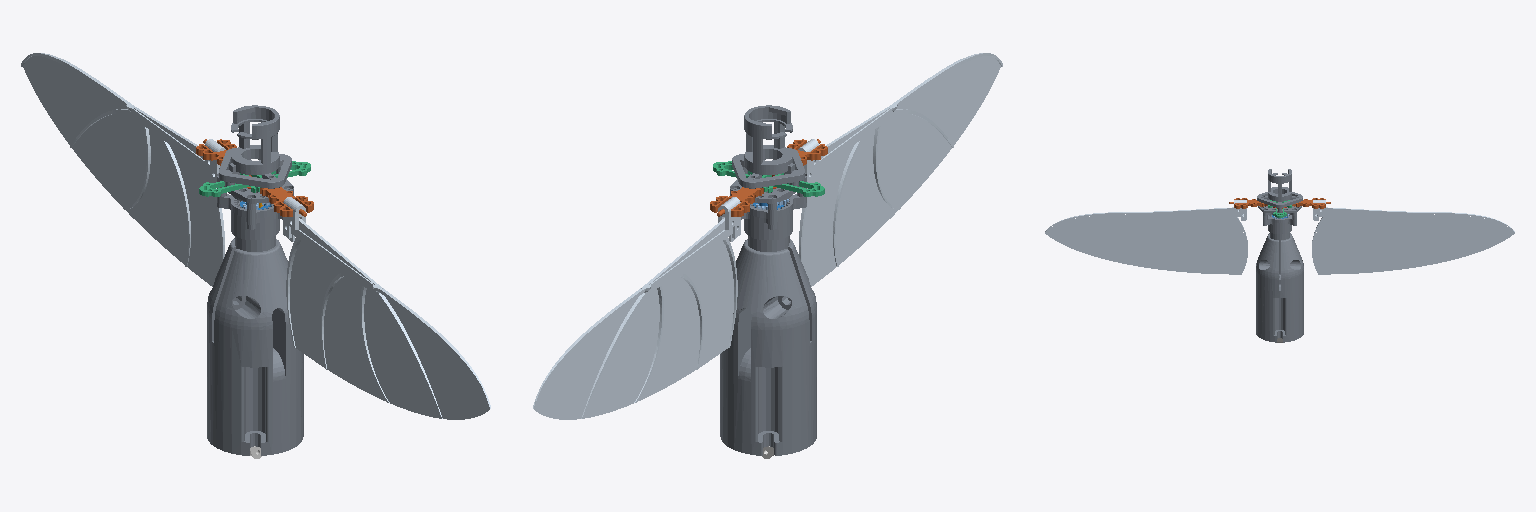
The robot description file, URDF, robot "IST_robot-V2":
<?xml version='1.0' encoding='utf-8'?>
<robot name="IST_robot-V2">
  <!-- Generated by ../build_model.py. Use IST_robot-V2.xml for MuJoCo physics: URDF cannot express the nonlinear Scotch-yoke closure. The original base is thrust_unit, mounted above a new pitch/roll support. Feathering remains passive. Fixed base and U-shaped connector meshes come from SingleThrustFlapper; mount mass/inertia adjusted for 15 g total. IST attachment is provisional. -->
  <link name="thrust_unit">
    <inertial>
      <origin xyz="1.26761268613762E-05 -2.20973017296773E-08 -0.0237424608367809" rpy="0 0 0" />
      <mass value="0.0109129405676043" />
      <inertia ixx="1.38805289177657E-06" ixy="1.77724958502214E-11" ixz="7.64109214566619E-10" iyy="1.39517042830575E-06" iyz="-6.40435229464194E-11" izz="4.56358479374671E-07" />
    </inertial>
    <visual>
      <origin xyz="0 0 0" rpy="0 0 0" />
      <geometry>
        <mesh filename="../../IST_robot/meshes/base_link.stl" />
      </geometry>
      <material name="base_link_material">
        <color rgba=".55 .58 .62 1" />
      </material>
    </visual>
    <collision>
      <origin xyz="0 0 0" rpy="0 0 0" />
      <geometry>
        <mesh filename="../../IST_robot/meshes/base_link.stl" />
      </geometry>
    </collision>
  </link>
  <link name="motor_sun">
    <inertial>
      <origin xyz="3.32832973596192e-11 -1.8625597785044e-11 -0.00118097219061684" rpy="0 0 0" />
      <mass value="9.24465720612881e-06" />
      <inertia ixx="7.20829775690553e-12" ixy="-6.07288991302019e-20" ixz="1.46223535684454e-19" iyy="7.20829801532346e-12" iyz="6.03434160158238e-20" izz="9.97439347469208e-12" />
    </inertial>
    <visual>
      <origin xyz="0 0 0" rpy="0 0 0" />
      <geometry>
        <mesh filename="../../IST_robot/meshes/motor_sun.stl" />
      </geometry>
      <material name="motor_sun_material">
        <color rgba=".95 .65 .12 1" />
      </material>
    </visual>
    <collision>
      <origin xyz="0 0 0" rpy="0 0 0" />
      <geometry>
        <mesh filename="../../IST_robot/meshes/motor_sun.stl" />
      </geometry>
    </collision>
  </link>
  <link name="carrier_1">
    <inertial>
      <origin xyz="-1.73310121737e-10 -3.24918557588e-10 -0.00215355804873" rpy="0 0 0" />
      <mass value="6.20212756891e-05" />
      <inertia ixx="2.949469618459e-10" ixy="3.506696363482e-18" ixz="-6.260708655656e-18" iyy="2.949469662022e-10" iyz="-1.582547427162e-17" izz="3.126416935213e-10" />
    </inertial>
    <visual>
      <origin xyz="0 0 0" rpy="0 0 0" />
      <geometry>
        <mesh filename="../../IST_robot/meshes/carrier_1.stl" />
      </geometry>
      <material name="carrier_1_material">
        <color rgba=".25 .55 .8 1" />
      </material>
    </visual>
    <collision>
      <origin xyz="0 0 0" rpy="0 0 0" />
      <geometry>
        <mesh filename="../../IST_robot/meshes/carrier_1.stl" />
      </geometry>
    </collision>
  </link>
  <link name="planet_1_1">
    <inertial>
      <origin xyz="5.67578651505e-12 2.26856838893e-11 0.000499999991572" rpy="0 0 0" />
      <mass value="5.737680733473e-06" />
      <inertia ixx="3.71652274435e-12" ixy="-9.779239622893e-20" ixz="1.610314610294e-20" iyy="3.71652263983e-12" iyz="4.562423784243e-20" izz="6.476767060959e-12" />
    </inertial>
    <visual>
      <origin xyz="0 0 0" rpy="0 0 0" />
      <geometry>
        <mesh filename="../../IST_robot/meshes/planet_1_1.stl" />
      </geometry>
      <material name="planet_1_1_material">
        <color rgba=".65 .8 .95 1" />
      </material>
    </visual>
    <collision>
      <origin xyz="0 0 0" rpy="0 0 0" />
      <geometry>
        <mesh filename="../../IST_robot/meshes/planet_1_1.stl" />
      </geometry>
    </collision>
  </link>
  <link name="planet_1_2">
    <inertial>
      <origin xyz="5.67578651505e-12 2.26856839435e-11 0.000499999991572" rpy="0 0 0" />
      <mass value="5.737680733473e-06" />
      <inertia ixx="3.71652274435e-12" ixy="-9.779239622893e-20" ixz="1.610314610294e-20" iyy="3.71652263983e-12" iyz="4.562423784243e-20" izz="6.476767060959e-12" />
    </inertial>
    <visual>
      <origin xyz="0 0 0" rpy="0 0 0" />
      <geometry>
        <mesh filename="../../IST_robot/meshes/planet_1_2.stl" />
      </geometry>
      <material name="planet_1_2_material">
        <color rgba=".65 .8 .95 1" />
      </material>
    </visual>
    <collision>
      <origin xyz="0 0 0" rpy="0 0 0" />
      <geometry>
        <mesh filename="../../IST_robot/meshes/planet_1_2.stl" />
      </geometry>
    </collision>
  </link>
  <link name="planet_1_3">
    <inertial>
      <origin xyz="5.67578651505e-12 2.26856838893e-11 0.000499999991572" rpy="0 0 0" />
      <mass value="5.737680733473e-06" />
      <inertia ixx="3.71652274435e-12" ixy="-9.779239622893e-20" ixz="1.610314610294e-20" iyy="3.71652263983e-12" iyz="4.562423784243e-20" izz="6.476767060959e-12" />
    </inertial>
    <visual>
      <origin xyz="0 0 0" rpy="0 0 0" />
      <geometry>
        <mesh filename="../../IST_robot/meshes/planet_1_3.stl" />
      </geometry>
      <material name="planet_1_3_material">
        <color rgba=".65 .8 .95 1" />
      </material>
    </visual>
    <collision>
      <origin xyz="0 0 0" rpy="0 0 0" />
      <geometry>
        <mesh filename="../../IST_robot/meshes/planet_1_3.stl" />
      </geometry>
    </collision>
  </link>
  <link name="carrier_2">
    <inertial>
      <origin xyz="-3.17866043324e-05 -0.000182285856424 -0.00467809526695" rpy="0 0 0" />
      <mass value="5.391299719195e-05" />
      <inertia ixx="2.781872030769e-10" ixy="-3.875580938268e-12" ixz="-6.423102939877e-13" iyy="2.566378198202e-10" iyz="-3.683441012056e-12" izz="4.121221917891e-10" />
    </inertial>
    <visual>
      <origin xyz="0 0 0" rpy="0 0 0" />
      <geometry>
        <mesh filename="../../IST_robot/meshes/carrier_2.stl" />
      </geometry>
      <material name="carrier_2_material">
        <color rgba=".8 .35 .2 1" />
      </material>
    </visual>
    <collision>
      <origin xyz="0 0 0" rpy="0 0 0" />
      <geometry>
        <mesh filename="../../IST_robot/meshes/carrier_2.stl" />
      </geometry>
    </collision>
  </link>
  <link name="planet_2_1">
    <inertial>
      <origin xyz="5.67578646084e-12 2.26856838893e-11 0.000499999991572" rpy="0 0 0" />
      <mass value="5.737680733473e-06" />
      <inertia ixx="3.71652274435e-12" ixy="-9.779239622893e-20" ixz="1.610314610294e-20" iyy="3.71652263983e-12" iyz="4.562423784243e-20" izz="6.476767060959e-12" />
    </inertial>
    <visual>
      <origin xyz="0 0 0" rpy="0 0 0" />
      <geometry>
        <mesh filename="../../IST_robot/meshes/planet_2_1.stl" />
      </geometry>
      <material name="planet_2_1_material">
        <color rgba=".65 .8 .95 1" />
      </material>
    </visual>
    <collision>
      <origin xyz="0 0 0" rpy="0 0 0" />
      <geometry>
        <mesh filename="../../IST_robot/meshes/planet_2_1.stl" />
      </geometry>
    </collision>
  </link>
  <link name="planet_2_2">
    <inertial>
      <origin xyz="-6.8031245921e-12 2.23734731527e-11 0.000499999991572" rpy="0 0 0" />
      <mass value="5.737680733473e-06" />
      <inertia ixx="3.716522802967e-12" ixy="7.738299952786e-23" ixz="-9.661717019851e-21" iyy="3.716522581213e-12" iyz="4.740815972126e-20" izz="6.476767060959e-12" />
    </inertial>
    <visual>
      <origin xyz="0 0 0" rpy="0 0 0" />
      <geometry>
        <mesh filename="../../IST_robot/meshes/planet_2_2.stl" />
      </geometry>
      <material name="planet_2_2_material">
        <color rgba=".65 .8 .95 1" />
      </material>
    </visual>
    <collision>
      <origin xyz="0 0 0" rpy="0 0 0" />
      <geometry>
        <mesh filename="../../IST_robot/meshes/planet_2_2.stl" />
      </geometry>
    </collision>
  </link>
  <link name="planet_2_3">
    <inertial>
      <origin xyz="5.67578694873e-12 2.26856836725e-11 0.000499999991572" rpy="0 0 0" />
      <mass value="5.737680733473e-06" />
      <inertia ixx="3.71652274435e-12" ixy="-9.779239622893e-20" ixz="1.610314610294e-20" iyy="3.71652263983e-12" iyz="4.562423784243e-20" izz="6.476767060959e-12" />
    </inertial>
    <visual>
      <origin xyz="0 0 0" rpy="0 0 0" />
      <geometry>
        <mesh filename="../../IST_robot/meshes/planet_2_3.stl" />
      </geometry>
      <material name="planet_2_3_material">
        <color rgba=".65 .8 .95 1" />
      </material>
    </visual>
    <collision>
      <origin xyz="0 0 0" rpy="0 0 0" />
      <geometry>
        <mesh filename="../../IST_robot/meshes/planet_2_3.stl" />
      </geometry>
    </collision>
  </link>
  <link name="slider">
    <inertial>
      <origin xyz="-0.000471238301986213 -0.00724999999999904 0.000500000000000007" rpy="0 0 0" />
      <mass value="9.13433299099911e-05" />
      <inertia ixx="5.27794068806615e-10" ixy="-3.80698997352266e-23" ixz="1.32114430487267e-25" iyy="4.19977143860114e-09" iyz="5.59698022342879e-27" izz="4.71234161908943e-09" />
    </inertial>
    <visual>
      <origin xyz="0 0 0" rpy="0 0 0" />
      <geometry>
        <mesh filename="../../IST_robot/meshes/slider.stl" />
      </geometry>
      <material name="slider_material">
        <color rgba=".3 .75 .55 1" />
      </material>
    </visual>
    <collision>
      <origin xyz="0 0 0" rpy="0 0 0" />
      <geometry>
        <mesh filename="../../IST_robot/meshes/slider.stl" />
      </geometry>
    </collision>
  </link>
  <link name="left_flapping">
    <inertial>
      <origin xyz="0.00548903429774845 -6.56871542558514e-11 -0.000675091274318626" rpy="0 0 0" />
      <mass value="7.69478363348058e-05" />
      <inertia ixx="2.42874984735233e-10" ixy="1.33480878154164e-21" ixz="4.89509341337448e-12" iyy="1.07694212715597e-09" iyz="1.82482987991067e-23" izz="1.29980109009275e-09" />
    </inertial>
    <visual>
      <origin xyz="0 0 0" rpy="0 0 0" />
      <geometry>
        <mesh filename="../../IST_robot/meshes/left_flapping.stl" />
      </geometry>
      <material name="left_flapping_material">
        <color rgba=".8 .45 .25 1" />
      </material>
    </visual>
    <collision>
      <origin xyz="0 0 0" rpy="0 0 0" />
      <geometry>
        <mesh filename="../../IST_robot/meshes/left_flapping.stl" />
      </geometry>
    </collision>
  </link>
  <link name="left_wing">
    <inertial>
      <origin xyz="1.72174182157468e-05 0.0202267079520993 0.00631483804910844" rpy="0 0 0" />
      <mass value="0.000333849502130418" />
      <inertia ixx="5.47629869105606e-08" ixy="1.64685676479021e-10" ixz="1.33328181846956e-10" iyy="6.63071803489766e-09" iyz="-4.49940546418837e-09" izz="4.8269233447209e-08" />
    </inertial>
    <visual>
      <origin xyz="0 0 0" rpy="0 0 0" />
      <geometry>
        <mesh filename="../../IST_robot/meshes/left_wing.stl" />
      </geometry>
      <material name="left_wing_material">
        <color rgba=".85 .9 .95 1" />
      </material>
    </visual>
    <collision>
      <origin xyz="0 0 0" rpy="0 0 0" />
      <geometry>
        <mesh filename="../../IST_robot/meshes/left_wing.stl" />
      </geometry>
    </collision>
  </link>
  <link name="right_flapping">
    <inertial>
      <origin xyz="0.00548903429774801 6.56934543304989e-11 -0.000675091274318626" rpy="0 0 0" />
      <mass value="7.69478363348058e-05" />
      <inertia ixx="2.42874984735233e-10" ixy="1.33413383513526e-21" ixz="4.89509341337441e-12" iyy="1.07694212715597e-09" iyz="1.82560258559346e-23" izz="1.29980109009275e-09" />
    </inertial>
    <visual>
      <origin xyz="0 0 0" rpy="0 0 0" />
      <geometry>
        <mesh filename="../../IST_robot/meshes/right_flapping.stl" />
      </geometry>
      <material name="right_flapping_material">
        <color rgba=".8 .45 .25 1" />
      </material>
    </visual>
    <collision>
      <origin xyz="0 0 0" rpy="0 0 0" />
      <geometry>
        <mesh filename="../../IST_robot/meshes/right_flapping.stl" />
      </geometry>
    </collision>
  </link>
  <link name="right_wing">
    <inertial>
      <origin xyz="-1.71820374846992e-05 0.0202054858245543 0.00631658519247802" rpy="0 0 0" />
      <mass value="0.00033369228976673" />
      <inertia ixx="5.47064232192769e-08" ixy="-1.65019627131557e-10" ixz="-1.33426248126724e-10" iyy="6.63643111989782e-09" iyz="-4.50084711239028e-09" izz="4.82069415651429e-08" />
    </inertial>
    <visual>
      <origin xyz="0 0 0" rpy="0 0 0" />
      <geometry>
        <mesh filename="../../IST_robot/meshes/right_wing.stl" />
      </geometry>
      <material name="right_wing_material">
        <color rgba=".85 .9 .95 1" />
      </material>
    </visual>
    <collision>
      <origin xyz="0 0 0" rpy="0 0 0" />
      <geometry>
        <mesh filename="../../IST_robot/meshes/right_wing.stl" />
      </geometry>
    </collision>
  </link>
  <joint name="motor_joint" type="continuous">
    <origin xyz="0 -3.1473754338e-18 -0.0514022391601" rpy="0 0 -2.96895077434" />
    <parent link="thrust_unit" />
    <child link="motor_sun" />
    <axis xyz="0 0 1" />
    <limit effort="0.002" velocity="20000" />
    <dynamics damping="1e-10" friction="0" />
  </joint>
  <joint name="carrier_1_joint" type="continuous">
    <origin xyz="0 -3.1473754338e-18 -0.0514022391601" rpy="0 0 -2.96895077434" />
    <parent link="thrust_unit" />
    <child link="carrier_1" />
    <axis xyz="0 0 1" />
    <limit effort="0.002" velocity="20000" />
    <mimic joint="motor_joint" multiplier="0.25" offset="0" />
  </joint>
  <joint name="planet_1_1_joint" type="continuous">
    <origin xyz="0.000936278737523 0.00253246562184 -0.002" rpy="0 0 9.53601373288e-18" />
    <parent link="carrier_1" />
    <child link="planet_1_1" />
    <axis xyz="0 0 1" />
    <limit effort="0.002" velocity="20000" />
    <mimic joint="motor_joint" multiplier="-0.75" offset="0" />
  </joint>
  <joint name="planet_1_2_joint" type="continuous">
    <origin xyz="-0.00266131893086 -0.000455391639881 -0.002" rpy="0 0 9.53601373288e-18" />
    <parent link="carrier_1" />
    <child link="planet_1_2" />
    <axis xyz="0 0 1" />
    <limit effort="0.002" velocity="20000" />
    <mimic joint="motor_joint" multiplier="-0.75" offset="0" />
  </joint>
  <joint name="planet_1_3_joint" type="continuous">
    <origin xyz="0.00172504019486 -0.00207707398244 -0.002" rpy="0 0 9.53601373288e-18" />
    <parent link="carrier_1" />
    <child link="planet_1_3" />
    <axis xyz="0 0 1" />
    <limit effort="0.002" velocity="20000" />
    <mimic joint="motor_joint" multiplier="-0.75" offset="0" />
  </joint>
  <joint name="carrier_2_joint" type="continuous">
    <origin xyz="0 -3.1473754338e-18 -0.0514022391601" rpy="0 0 -2.96895077434" />
    <parent link="thrust_unit" />
    <child link="carrier_2" />
    <axis xyz="0 0 1" />
    <limit effort="0.002" velocity="20000" />
    <mimic joint="motor_joint" multiplier="0.0625" offset="0" />
  </joint>
  <joint name="planet_2_1_joint" type="continuous">
    <origin xyz="0.000463820989763 0.00265986279516 -0.005" rpy="0 0 9.53601373288e-18" />
    <parent link="carrier_2" />
    <child link="planet_2_1" />
    <axis xyz="0 0 1" />
    <limit effort="0.002" velocity="20000" />
    <mimic joint="motor_joint" multiplier="-0.1875" offset="0" />
  </joint>
  <joint name="planet_2_2_joint" type="continuous">
    <origin xyz="-0.00253541924544 -0.000928250638032 -0.005" rpy="0 0 9.53601373288e-18" />
    <parent link="carrier_2" />
    <child link="planet_2_2" />
    <axis xyz="0 0 1" />
    <limit effort="0.002" velocity="20000" />
    <mimic joint="motor_joint" multiplier="-0.1875" offset="0" />
  </joint>
  <joint name="planet_2_3_joint" type="continuous">
    <origin xyz="0.00207159825721 -0.00173161215732 -0.005" rpy="0 0 9.53601373288e-18" />
    <parent link="carrier_2" />
    <child link="planet_2_3" />
    <axis xyz="0 0 1" />
    <limit effort="0.002" velocity="20000" />
    <mimic joint="motor_joint" multiplier="-0.1875" offset="0" />
  </joint>
  <joint name="slider_joint" type="prismatic">
    <origin xyz="0.000471238301987 0.00724999990958 -0.0584022391601" rpy="-6.12303176911e-17 0 0" />
    <parent link="thrust_unit" />
    <child link="slider" />
    <axis xyz="1 0 0" />
    <limit effort="1" velocity="2" lower="-0.0027" upper="0.0027" />
    <dynamics damping="1e-05" friction="0" />
  </joint>
  <joint name="left_flapping_joint" type="revolute">
    <origin xyz="0 -0.00660000009075 -0.0588022391601" rpy="3.14159265359 0 -1.57079632679" />
    <parent link="thrust_unit" />
    <child link="left_flapping" />
    <axis xyz="0 0 -1" />
    <limit effort="0.002" velocity="20000" lower="-1.38461538462" upper="1.38461538462" />
    <dynamics damping="1e-09" friction="0" />
    <mimic joint="slider_joint" multiplier="-512.820512821" offset="0" />
  </joint>
  <joint name="left_feathering_joint" type="revolute">
    <origin xyz="0.00699999999933 6.07153216534e-19 -0.00065" rpy="3.14159265359 0 1.57079632679" />
    <parent link="left_flapping" />
    <child link="left_wing" />
    <axis xyz="0 1 0" />
    <limit effort="0.002" velocity="20000" lower="-0.455530934771" upper="0.455530934771" />
    <dynamics damping="1e-08" friction="0" />
  </joint>
  <joint name="right_flapping_joint" type="revolute">
    <origin xyz="0 0.00659999990992 -0.0588022391601" rpy="3.14159265359 0 1.57079632679" />
    <parent link="thrust_unit" />
    <child link="right_flapping" />
    <axis xyz="0 0 -1" />
    <limit effort="0.002" velocity="20000" lower="-1.38461538462" upper="1.38461538462" />
    <dynamics damping="1e-09" friction="0" />
    <mimic joint="slider_joint" multiplier="512.820512821" offset="0" />
  </joint>
  <joint name="right_feathering_joint" type="revolute">
    <origin xyz="0.00699999999933 -6.07153216534e-19 -0.00065" rpy="3.14159265359 0 1.57079632679" />
    <parent link="right_flapping" />
    <child link="right_wing" />
    <axis xyz="0 1 0" />
    <limit effort="0.002" velocity="20000" lower="-0.455530934771" upper="0.455530934771" />
    <dynamics damping="1e-08" friction="0" />
  </joint>
  <link name="base_link">
    <inertial>
      <origin xyz="-0.0003339328522 -2.65343302885e-14 -0.0259918701186" rpy="0 0 1.5707963267948966" />
      <mass value="0.0020146726234309313" />
      <inertia ixx="5.091690914223252e-08" ixy="-2.0972430238300887e-18" ixz="2.8762976844529624e-20" iyy="1.3396232496597705e-07" iyz="-1.1952838587129788e-09" izz="1.1550548020540685e-07" />
    </inertial>
    <visual>
      <origin xyz="0.0001 0 -0.0415" rpy="0 0 1.5707963267948966" />
      <geometry>
        <mesh filename="../meshes/mount_base.STL" />
      </geometry>
      <material name="base_link_mount_material">
        <color rgba="0.894117647058823 0.894117647058823 0.894117647058823 1" />
      </material>
    </visual>
    <collision>
      <origin xyz="0.0001 0 -0.0415" rpy="0 0 1.5707963267948966" />
      <geometry>
        <mesh filename="../meshes/mount_base.STL" />
      </geometry>
    </collision>
  </link>
  <link name="pitch_link">
    <inertial>
      <origin xyz="-1.11022302462516E-16 -0.00120077777379013 2.77555756156289E-16" rpy="0 0 0" />
      <mass value="0.001" />
      <inertia ixx="2.78072428215955E-09" ixy="-5.15943304593458E-23" ixz="-1.19514623281412E-24" iyy="2.13394876122172E-09" iyz="1.54968941451455E-23" izz="3.86808801366709E-09" />
    </inertial>
    <visual>
      <origin xyz="0 0 0" rpy="0 0 0" />
      <geometry>
        <mesh filename="../meshes/pitch_link.STL" />
      </geometry>
      <material name="pitch_link_mount_material">
        <color rgba="0.894117647058823 0.894117647058823 0.894117647058823 1" />
      </material>
    </visual>
    <collision>
      <origin xyz="0 0 0" rpy="0 0 0" />
      <geometry>
        <mesh filename="../meshes/pitch_link.STL" />
      </geometry>
    </collision>
  </link>
  <joint name="pitch_joint" type="revolute">
    <origin xyz="0 0 -0.00325" rpy="-1.5707963267948966 0 0" />
    <parent link="base_link" />
    <child link="pitch_link" />
    <axis xyz="0 0 1" />
    <limit lower="-0.3" upper="0.3" effort="0.02" velocity="10" />
    <dynamics damping="0.000001" friction="0" />
  </joint>
  <joint name="roll_joint" type="revolute">
    <origin xyz="0 -0.00325 0" rpy="-1.5707963267948966 0 0" />
    <parent link="pitch_link" />
    <child link="thrust_unit" />
    <axis xyz="1 0 0" />
    <limit lower="-0.3" upper="0.3" effort="0.02" velocity="10" />
    <dynamics damping="0.000001" friction="0" />
  </joint>
</robot>

--- What the picture shows (computed from the rendered views, not written in the file) ---
Views: 3 orthographic renders of the robot side by side, from view 1: azimuth 30°, elevation 25°; view 2: azimuth 150°, elevation 25°; view 3: azimuth 270°, elevation 25°.
Robot: IST_robot-V2 — 17 links, 16 joints (6 revolute, 9 continuous, 1 prismatic); root link base_link; default pose: all joints at 0.
Links seen in each view (by area): view 1: thrust_unit, right_wing, left_wing, slider, right_flapping; view 2: thrust_unit, left_wing, right_wing, slider, left_flapping; view 3: left_wing, right_wing, thrust_unit.
Boxes of the visible links, x1,y1,x2,y2 form: thrust_unit: [207, 105, 303, 455]; right_wing: [283, 197, 490, 419]; left_wing: [21, 53, 225, 286]; slider: [199, 161, 310, 196]; right_flapping: [260, 187, 313, 216]; thrust_unit: [720, 105, 816, 455]; left_wing: [533, 197, 740, 419]; right_wing: [798, 53, 1002, 286]; slider: [713, 161, 824, 196]; left_flapping: [710, 187, 763, 216]; left_wing: [1312, 200, 1514, 274]; right_wing: [1045, 200, 1247, 274]; thrust_unit: [1256, 169, 1303, 342].
Bounding box of the posed robot: 0.0259 × 0.1921 × 0.077 m (x, y, z).
Meshes: 17 distinct files referenced, 16 mesh visuals loaded (16 binary STL); not drawn: 1 (reference not matched to a file when rendering).
